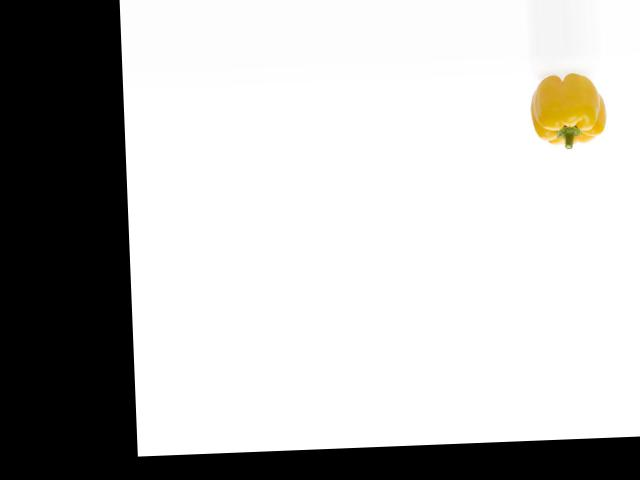bell_pepper: (530, 70, 612, 153)
